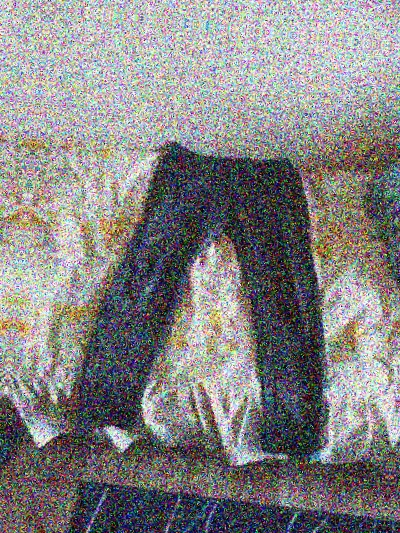Pants: (49, 98, 387, 481)
